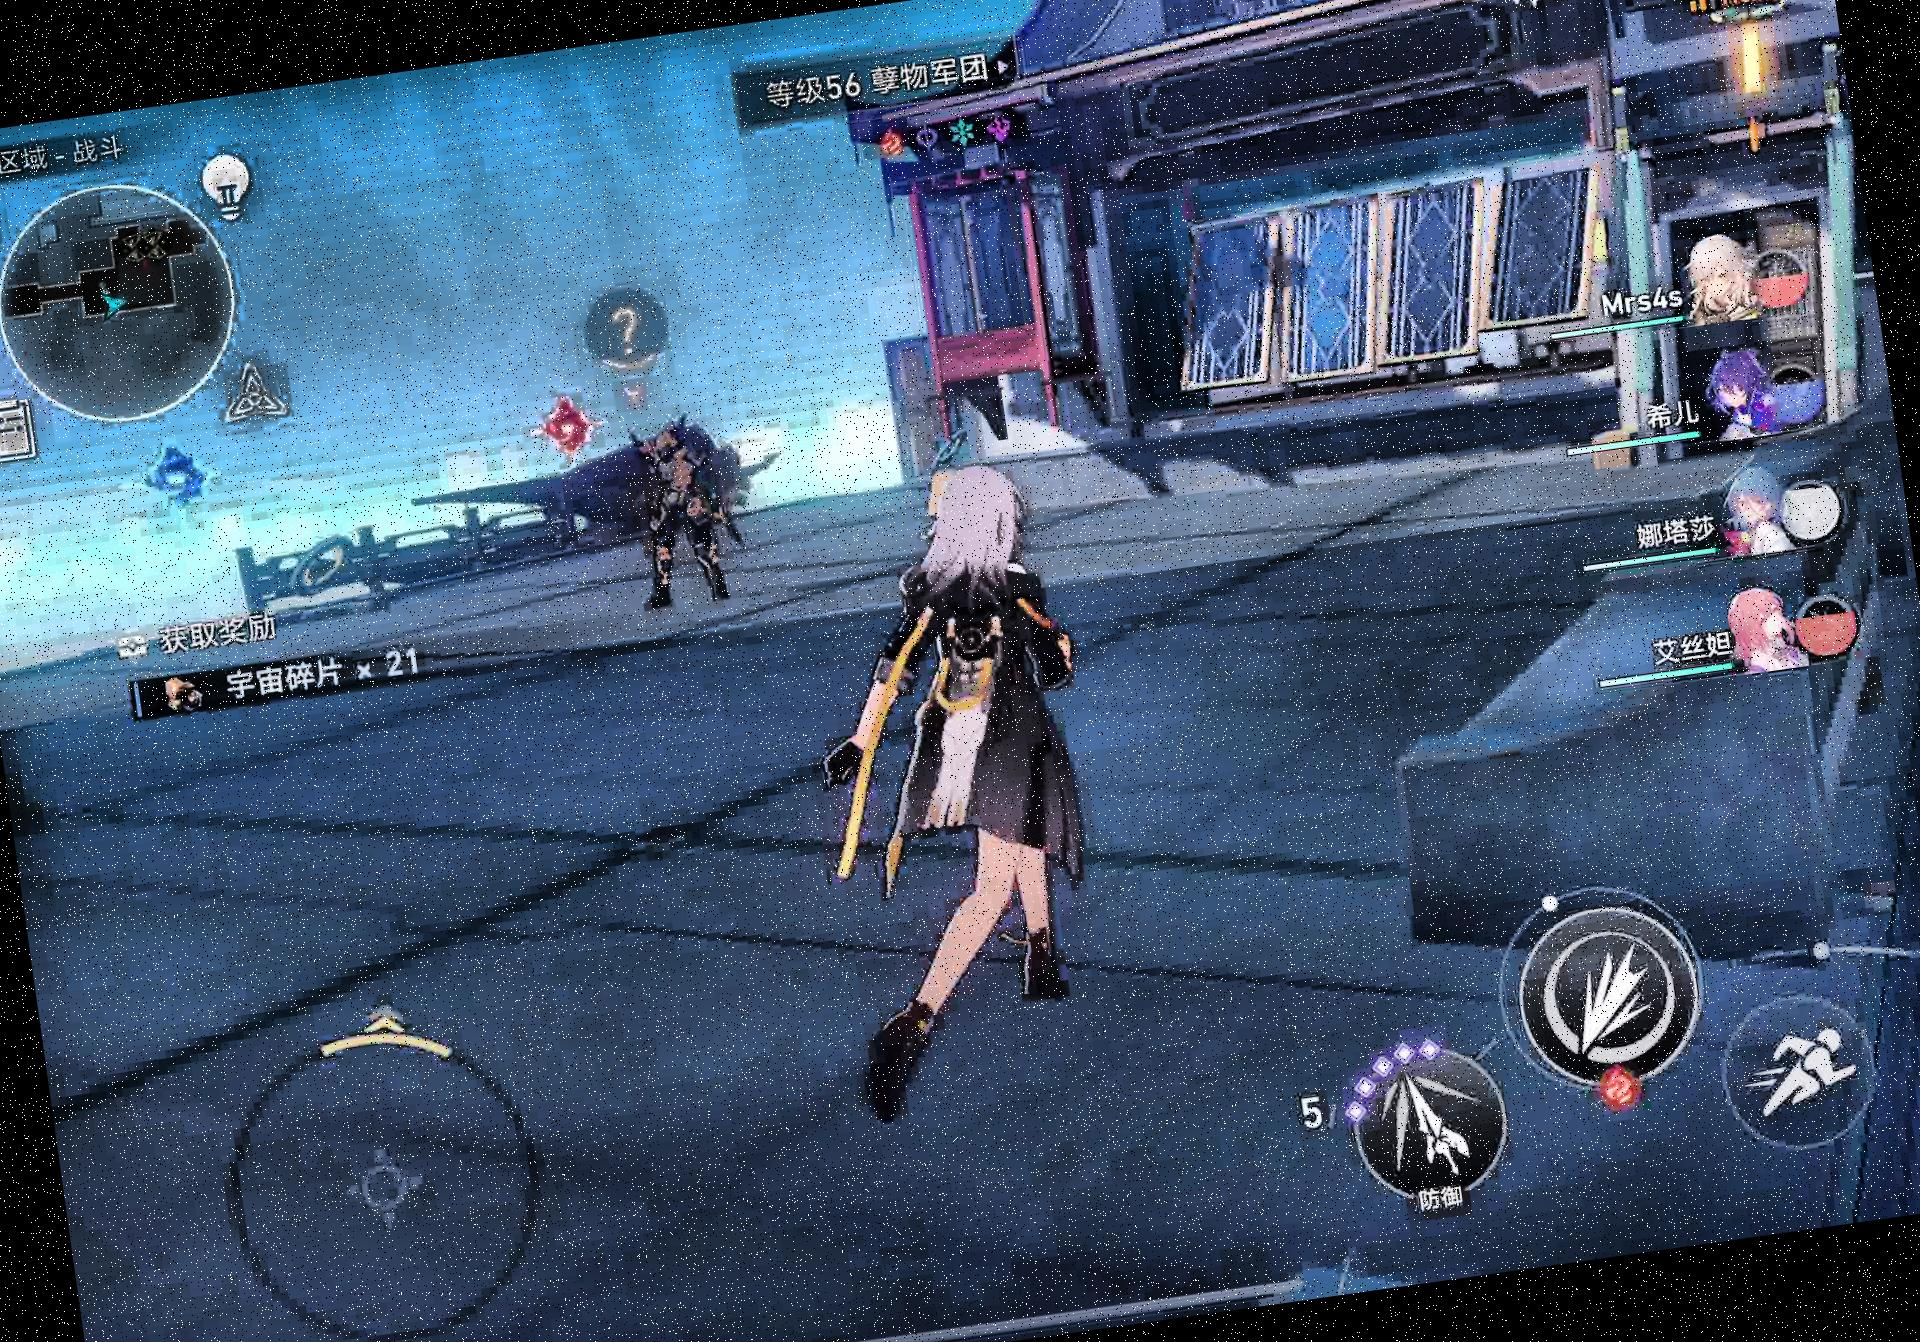BattleDoor: (519, 385, 617, 480)
Enemy: (627, 408, 748, 627)
EventDoor: (121, 432, 236, 538)
Self: (778, 452, 1154, 1133)
